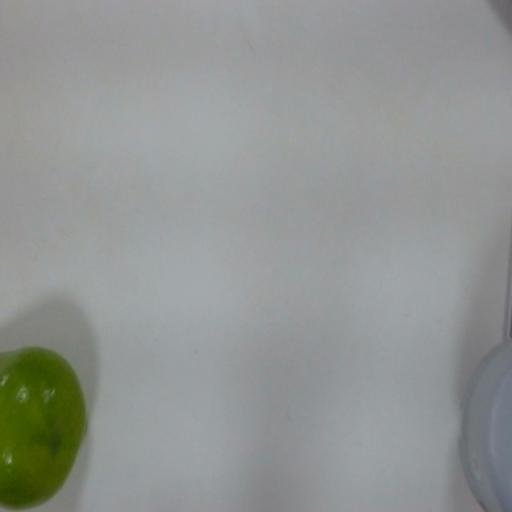Unripe: (0, 322, 86, 512)
